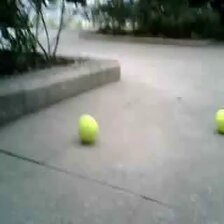tennis: (77, 112, 97, 142), (214, 109, 224, 133)
